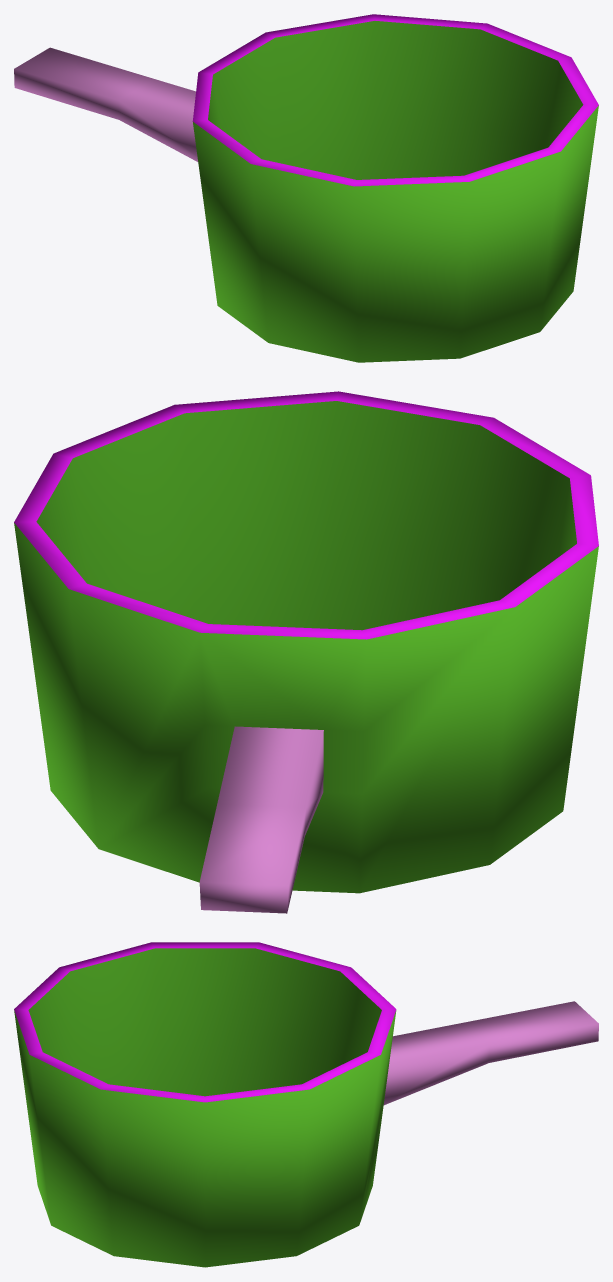
Rendered from Kettle.fbx.
3 views of the same model, one above another, from view 1: azimuth 30°, elevation 25°; view 2: azimuth 150°, elevation 25°; view 3: azimuth 270°, elevation 25° (orthographic). The views are drawn at different scales.
Parts seen in each view (by area): view 1: Cylinder001; view 2: Cylinder001; view 3: Cylinder001.
Boxes of the visible parts, left/top/right/bottom form: Cylinder001: left=14, top=14, right=598, bottom=362; Cylinder001: left=14, top=391, right=598, bottom=913; Cylinder001: left=14, top=942, right=598, bottom=1267.
Size of the model in its own units: 27.82 by 13.78 by 41.72.
